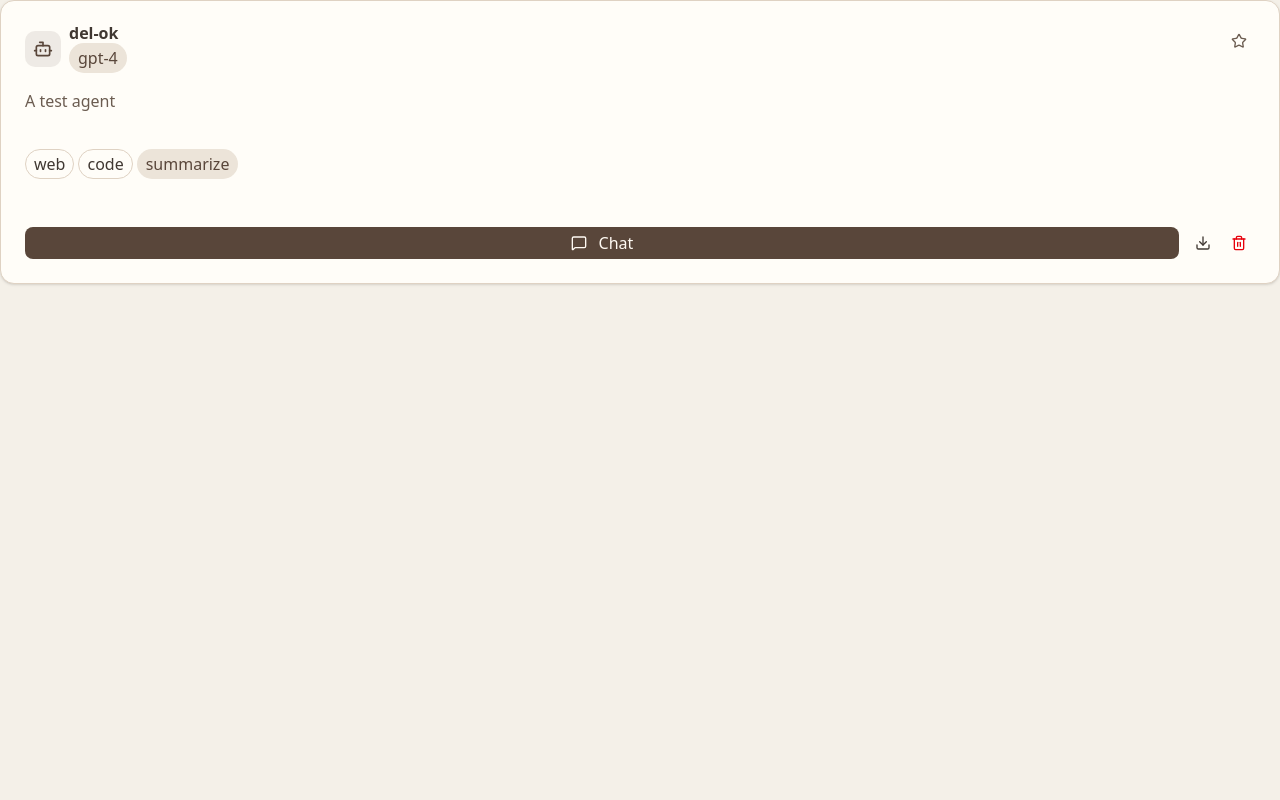
AgentCard › successful delete shows success toast and closes dialog
Click the button with test id "agent-delete-button": (1239, 243) [1223,227,1255,259]
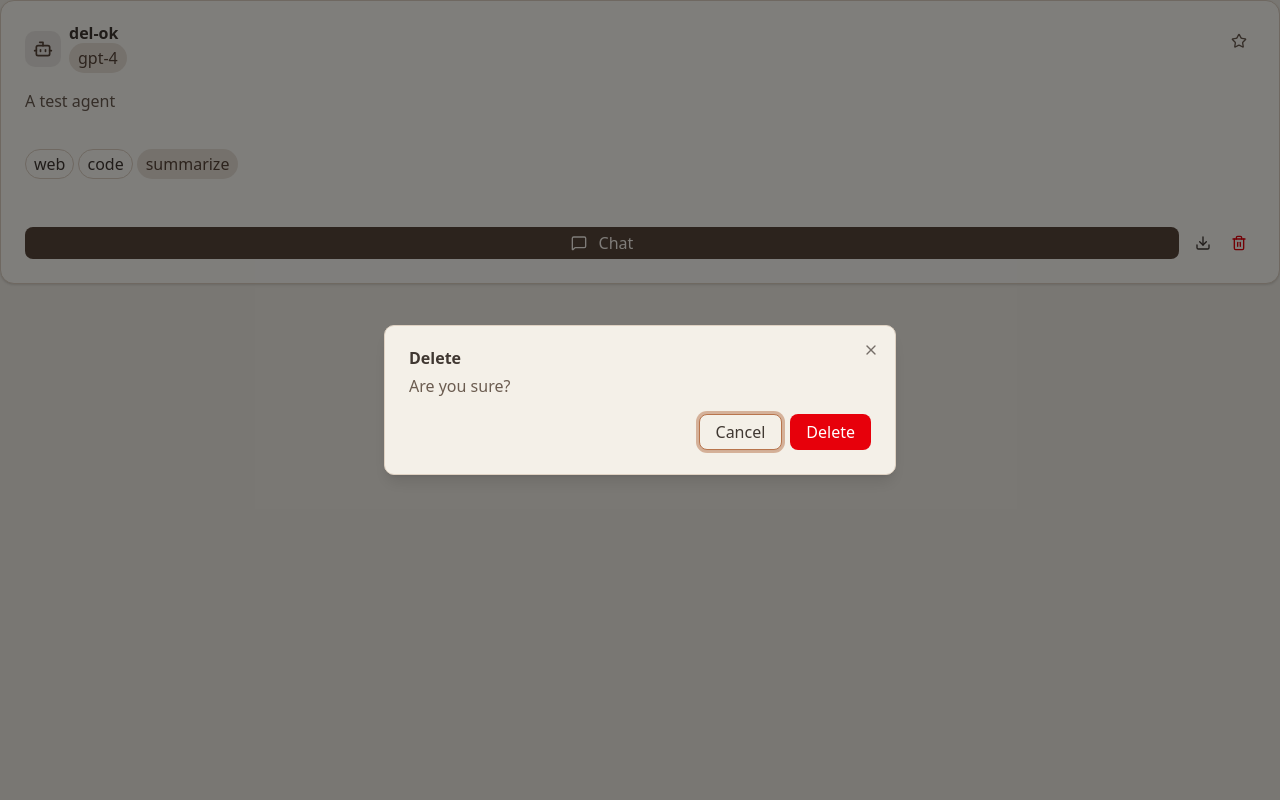
Now the dialog is shown, box [384,325,896,475]
Click the button "Delete": (831, 432) [790,414,871,450]
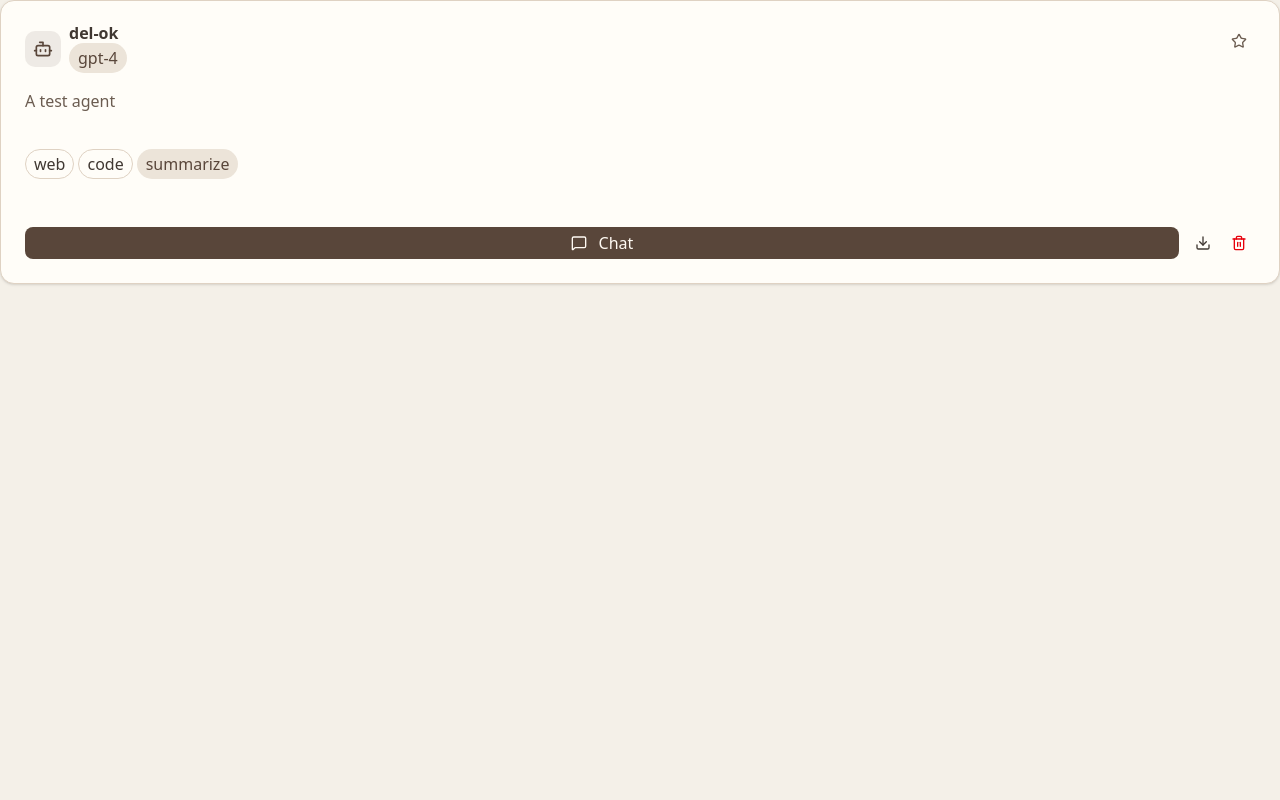
Now the dialog is gone
